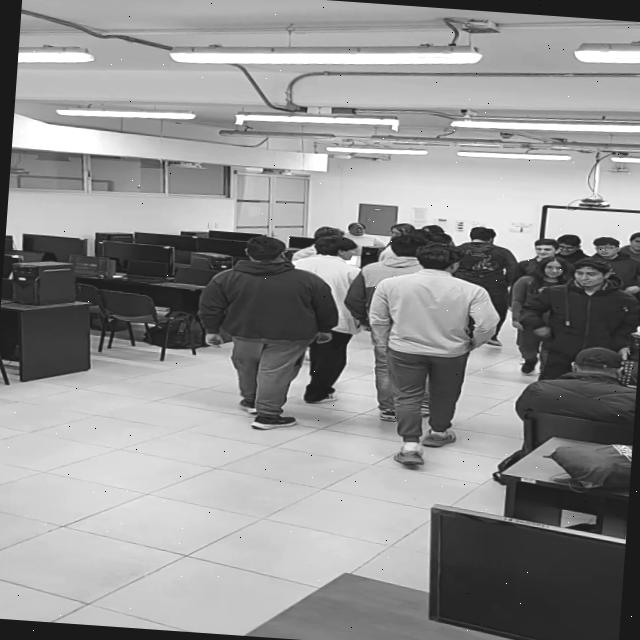Persona: (366, 238, 498, 471), (190, 230, 334, 429), (282, 232, 372, 413), (531, 253, 640, 384)
